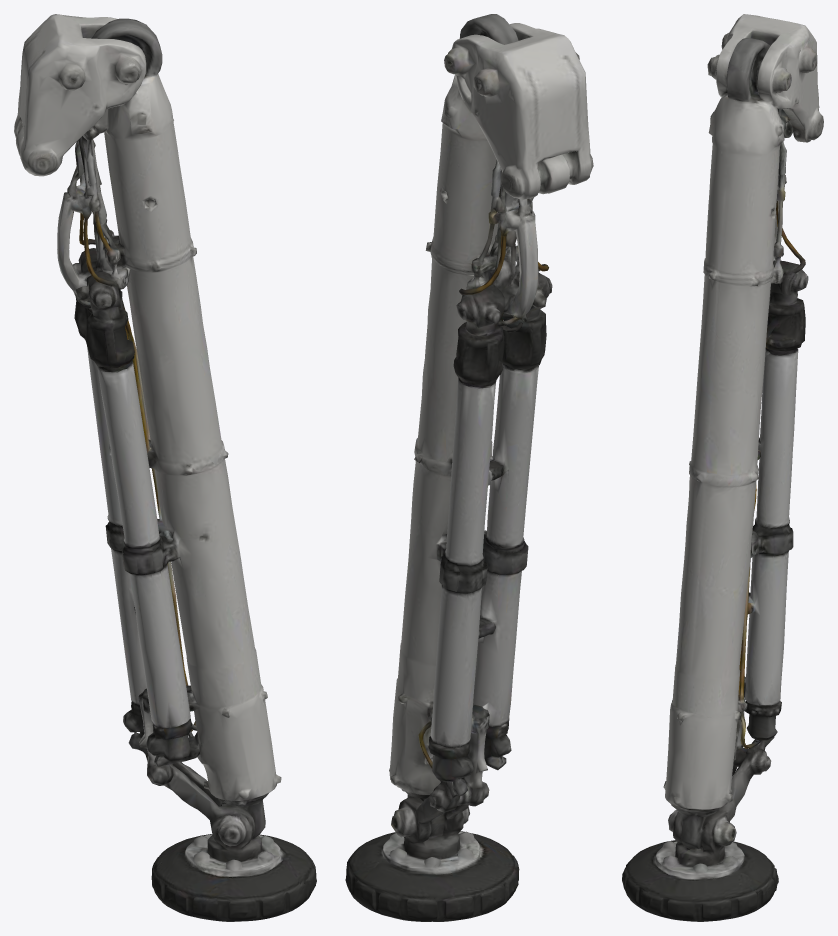
File: leg.glb
The picture shows the model from 3 angles, left to right: view 1: azimuth 30°, elevation 25°; view 2: azimuth 150°, elevation 25°; view 3: azimuth 270°, elevation 25°; orthographic projection. The views are drawn at different scales.
Visible parts, largest first — view 1: tripo_node_ed64592d-207d-4488-8890-18a285b81361; view 2: tripo_node_ed64592d-207d-4488-8890-18a285b81361; view 3: tripo_node_ed64592d-207d-4488-8890-18a285b81361.
Boxes of the visible parts, <box> form: tripo_node_ed64592d-207d-4488-8890-18a285b81361: <box>14,14,316,921</box>; tripo_node_ed64592d-207d-4488-8890-18a285b81361: <box>345,14,593,921</box>; tripo_node_ed64592d-207d-4488-8890-18a285b81361: <box>622,14,823,921</box>.
Size of the model in its own units: 0.3056 by 1 by 0.2254.
1 material, 1 textured.
